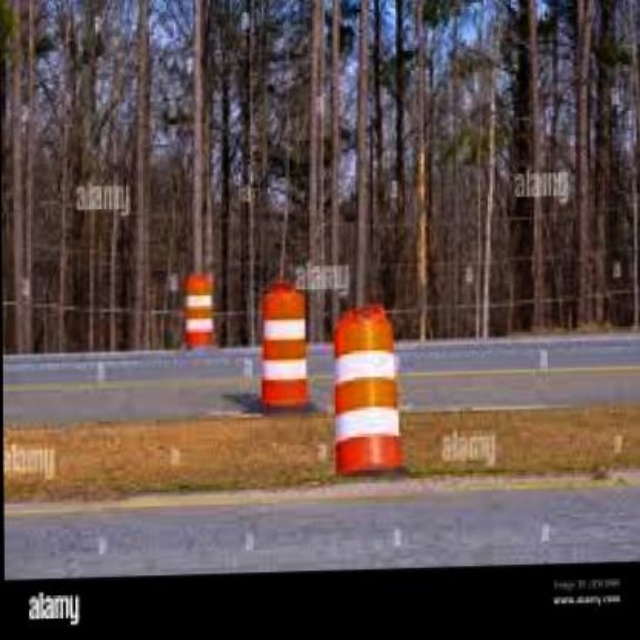obstacle: (329, 296, 401, 473), (258, 284, 308, 415), (180, 267, 217, 347)
